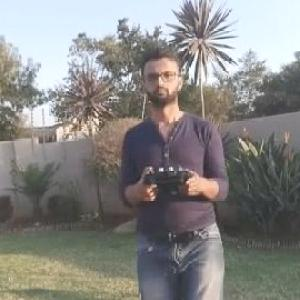follow: (119, 40, 232, 299)
